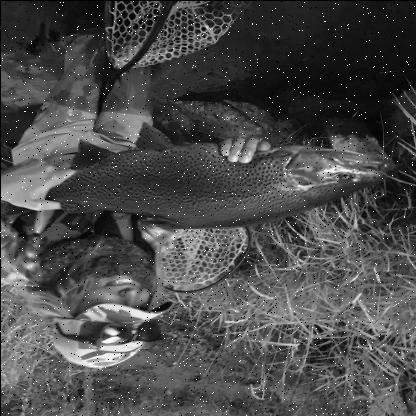fish: (0, 121, 388, 230)
